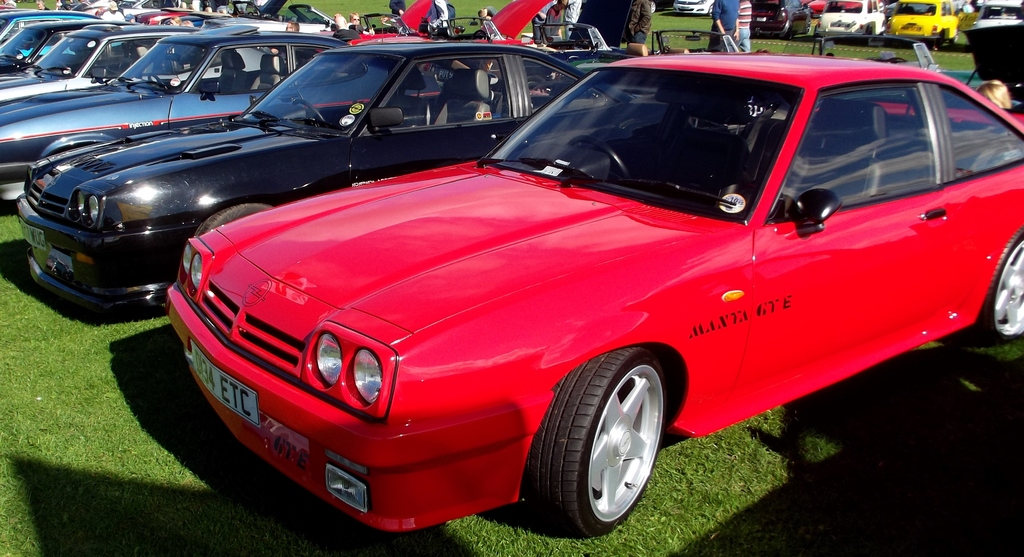mobil: (169, 55, 1024, 538), (26, 47, 513, 271)
